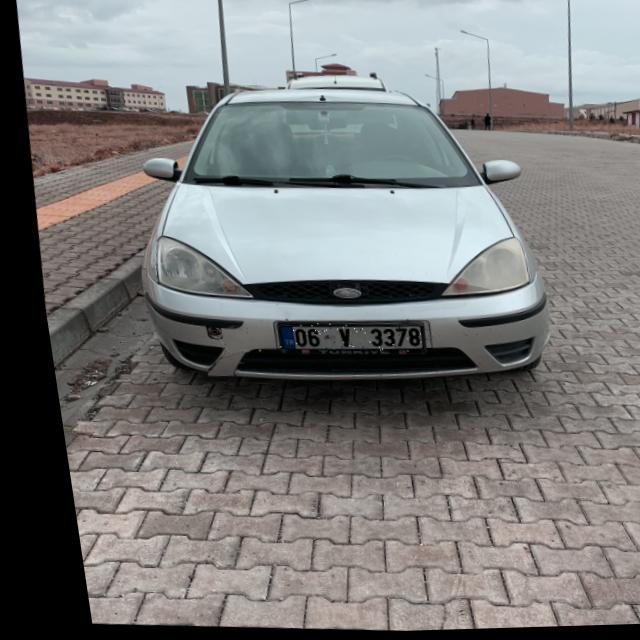license_plate: (267, 321, 415, 358)
